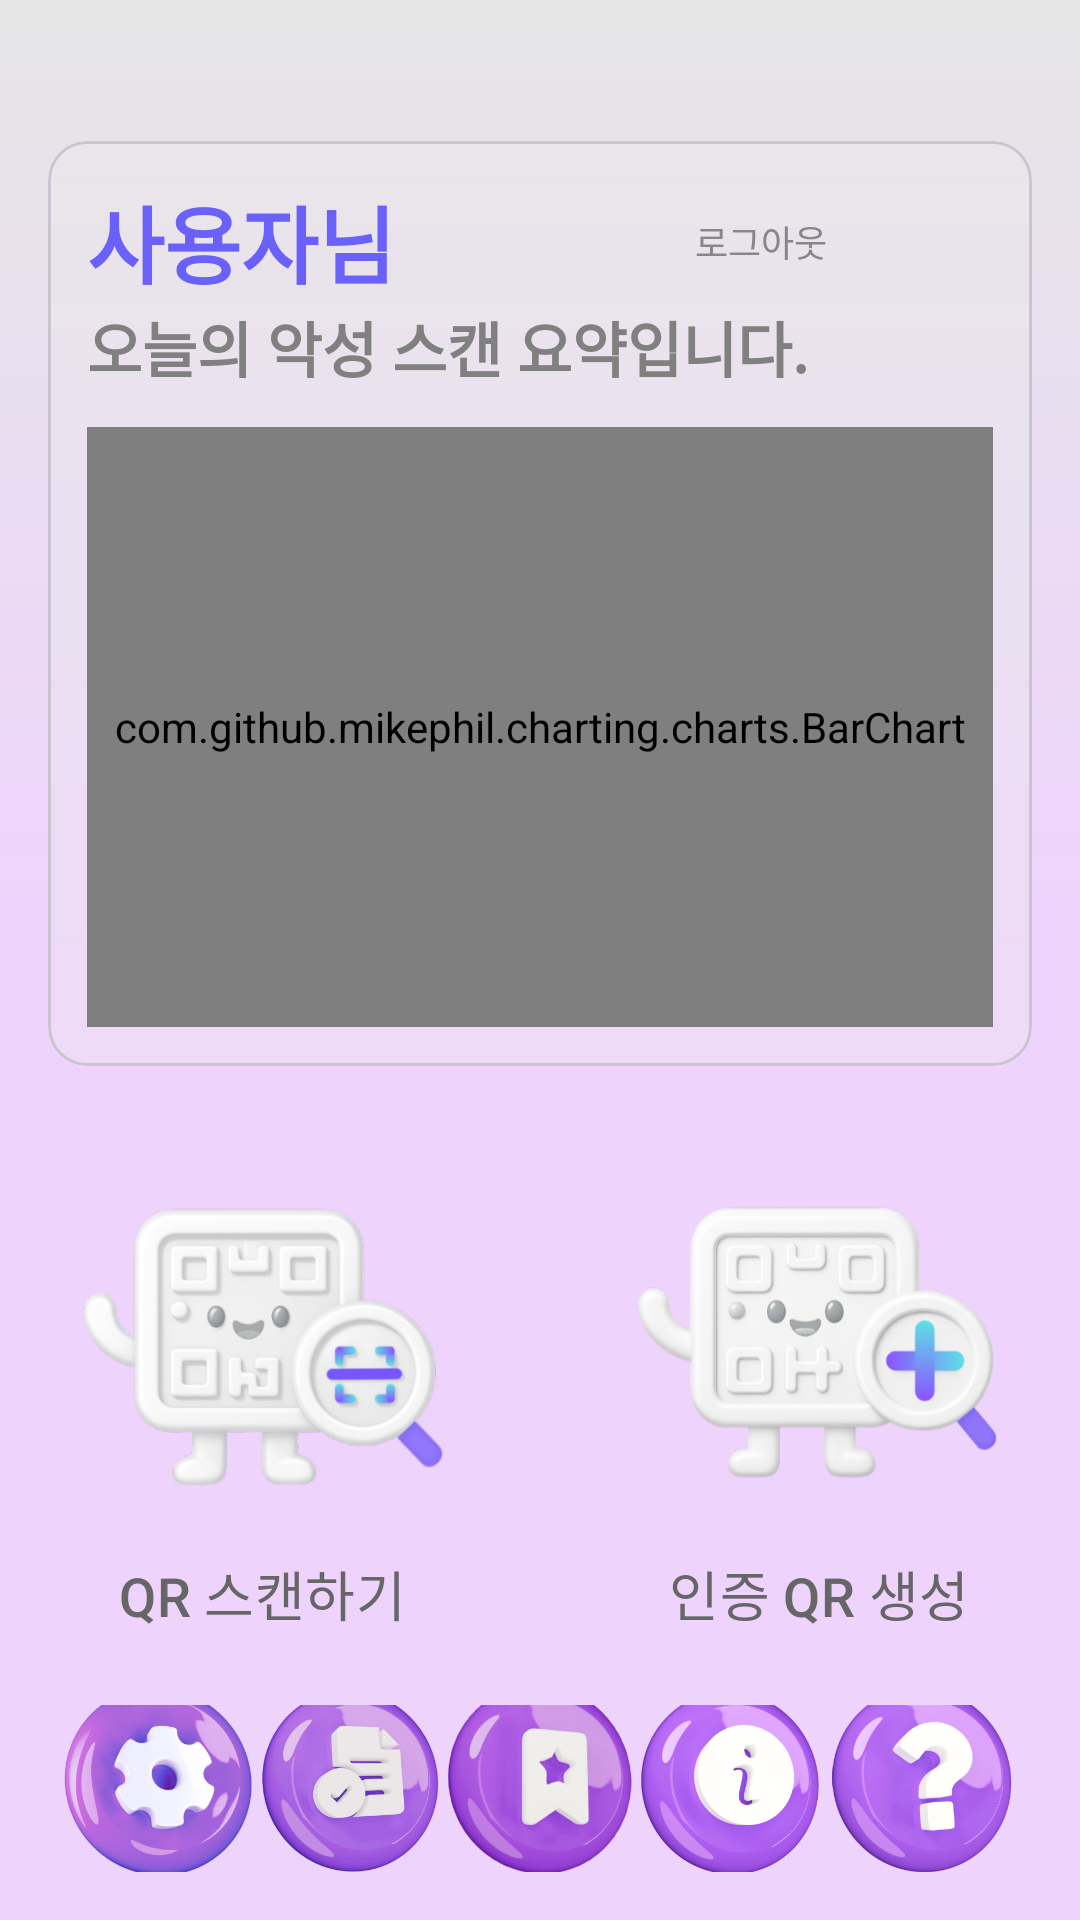

Screen size 1080×1920. Icon name, then its center in pixels as (x,y):
문의하기: (922,1788)
생성기록: (350,1788)
설정: (158,1788)
앱 소개: (730,1788)
즐겨찾기: (540,1788)
